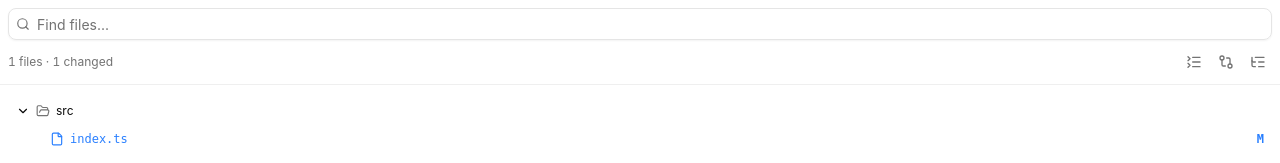
Test: collapse and changed controls update expansion
Expected: the text "index.ts" is shown, x1=70 y1=132 x2=128 y2=146
Click the button named "Collapse tree": (1194, 62) x1=1180 y1=48 x2=1208 y2=76
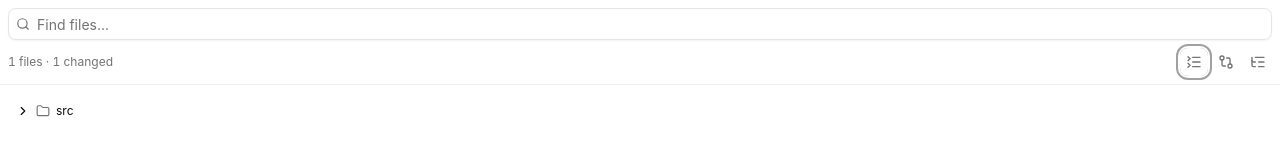
Expected: the button "index.ts" is gone
Click the button named "Show changed files": (1226, 62) x1=1212 y1=48 x2=1240 y2=76
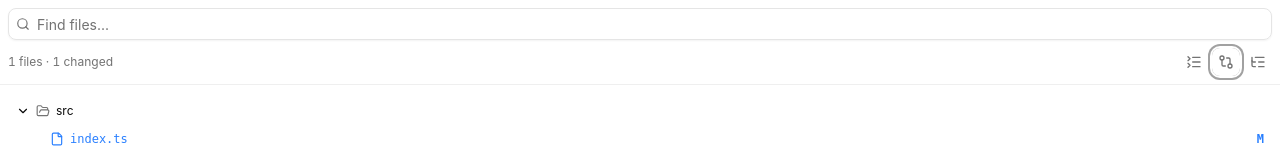
Expected: the text "index.ts" is shown, x1=70 y1=132 x2=128 y2=146
